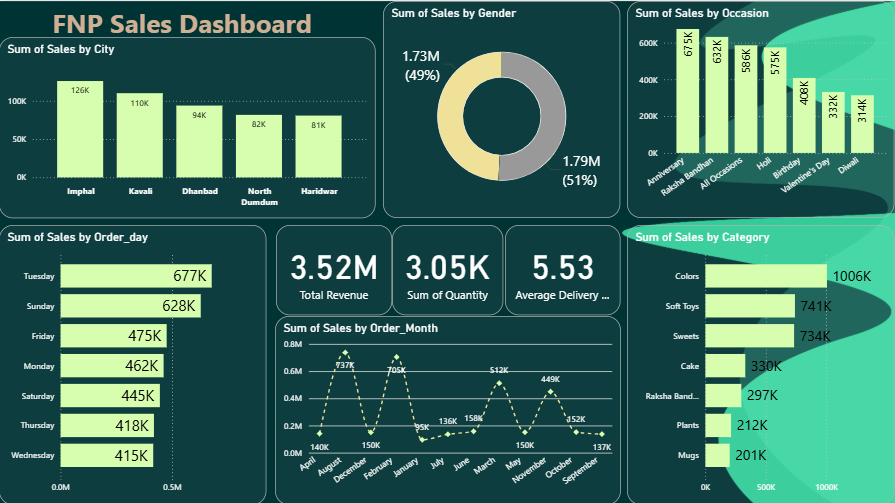

Layout of this report page (visuals, bound fields, positions):
{"tool":"powerbi","page":{"name":"Page 1","canvas":[1280,720],"ordinal":0},"visuals":[{"type":"card","fields":{"Values":["Sum(orders.Sales)"]},"box":[395.3,320.3,166,129.3],"z":0},{"type":"card","fields":{"Values":["Sum(orders.Quantity)"]},"box":[561.3,320.3,158.7,129.3],"z":1000},{"type":"card","fields":{"Values":["Avg(orders.Delivery_Days)"]},"box":[722.9,320.3,164.6,129.3],"z":2000},{"type":"textbox","box":[72,0,392.3,70.5],"z":3000},{"type":"columnChart","fields":{"Y":["Sum(orders.Sales)"],"Category":["products.Occasion"]},"box":[897.8,0,382,310],"z":4000},{"type":"donutChart","fields":{"Y":["Sum(orders.Sales)"],"Category":["customers.Gender"]},"box":[548.1,0,339.4,310],"z":5000},{"type":"clusteredBarChart","fields":{"Category":["products.Category"],"Y":["Sum(orders.Sales)"]},"box":[897.8,320.3,382,399.7],"z":6000},{"type":"lineChart","fields":{"Y":["Sum(orders.Sales)"],"Category":["orders.Order_Month"]},"box":[393.8,449.6,493.7,270.4],"z":7000},{"type":"clusteredBarChart","fields":{"Y":["Sum(orders.Sales)"],"Category":["orders.Order_day"]},"box":[0,320.3,382,399.7],"z":8000},{"type":"columnChart","fields":{"Category":["customers.City"],"Y":["Sum(orders.Sales)"]},"box":[0,51.4,537.8,258.6],"z":9000}]}

Visuals, with their boxes in screenshot pixels (x1, y1, x2, y2), scaled from the page's 1280x720 canvas onto the 895x503 screenshot:
card - Sum(orders.Sales): box(276, 224, 392, 314)
card - Sum(orders.Quantity): box(392, 224, 503, 314)
card - Avg(orders.Delivery_Days): box(505, 224, 621, 314)
textbox: box(50, 0, 325, 49)
columnChart - Sum(orders.Sales) x products.Occasion: box(628, 0, 894, 217)
donutChart - Sum(orders.Sales) x customers.Gender: box(383, 0, 621, 217)
clusteredBarChart - products.Category x Sum(orders.Sales): box(628, 224, 894, 502)
lineChart - Sum(orders.Sales) x orders.Order_Month: box(275, 314, 621, 502)
clusteredBarChart - Sum(orders.Sales) x orders.Order_day: box(0, 224, 267, 502)
columnChart - customers.City x Sum(orders.Sales): box(0, 36, 376, 217)
